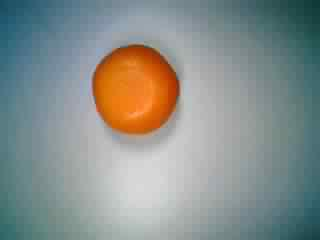orange: (87, 40, 182, 142)
